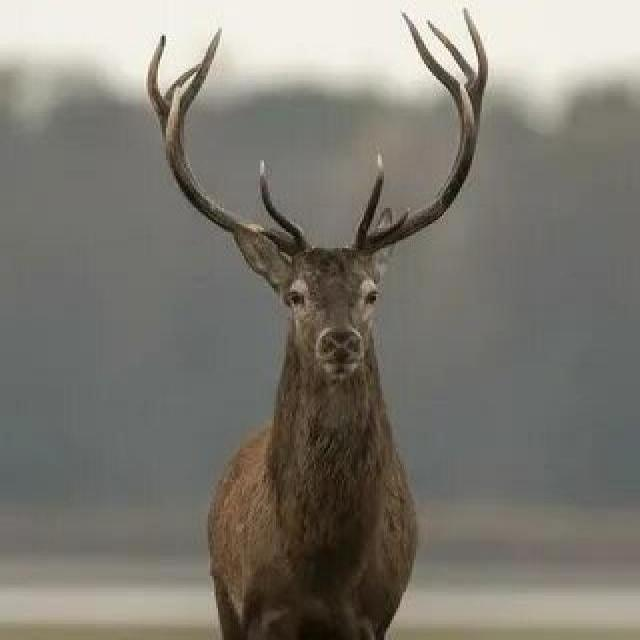deer: (25, 9, 539, 640)
